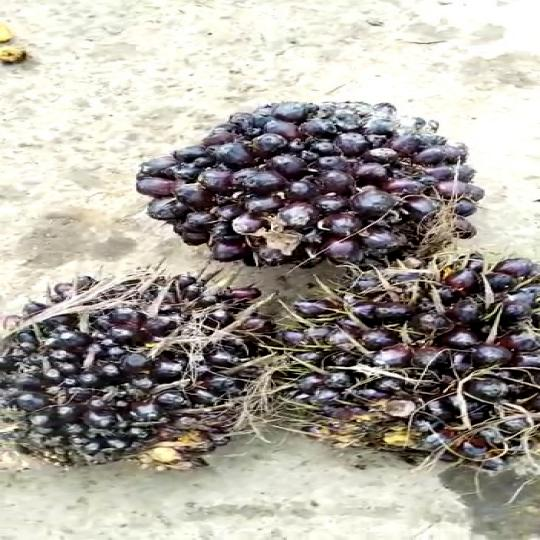mentah: (108, 93, 506, 262), (0, 260, 287, 470), (268, 251, 540, 468)
